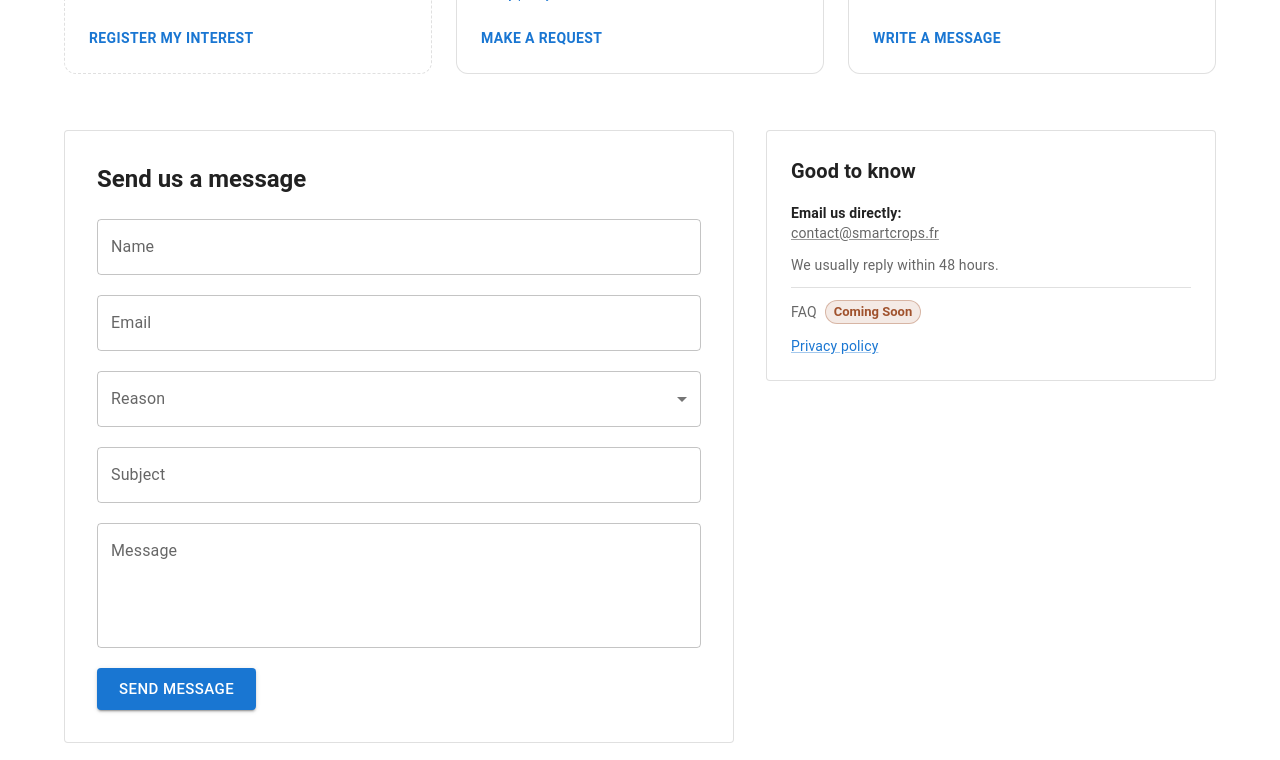
Contact (SMA-36) › shows inline validation errors and does not reach success on invalid submit
(page scrolled)
Click the button "Send message" at x=177, y=689, box 97,668 -> 256,710
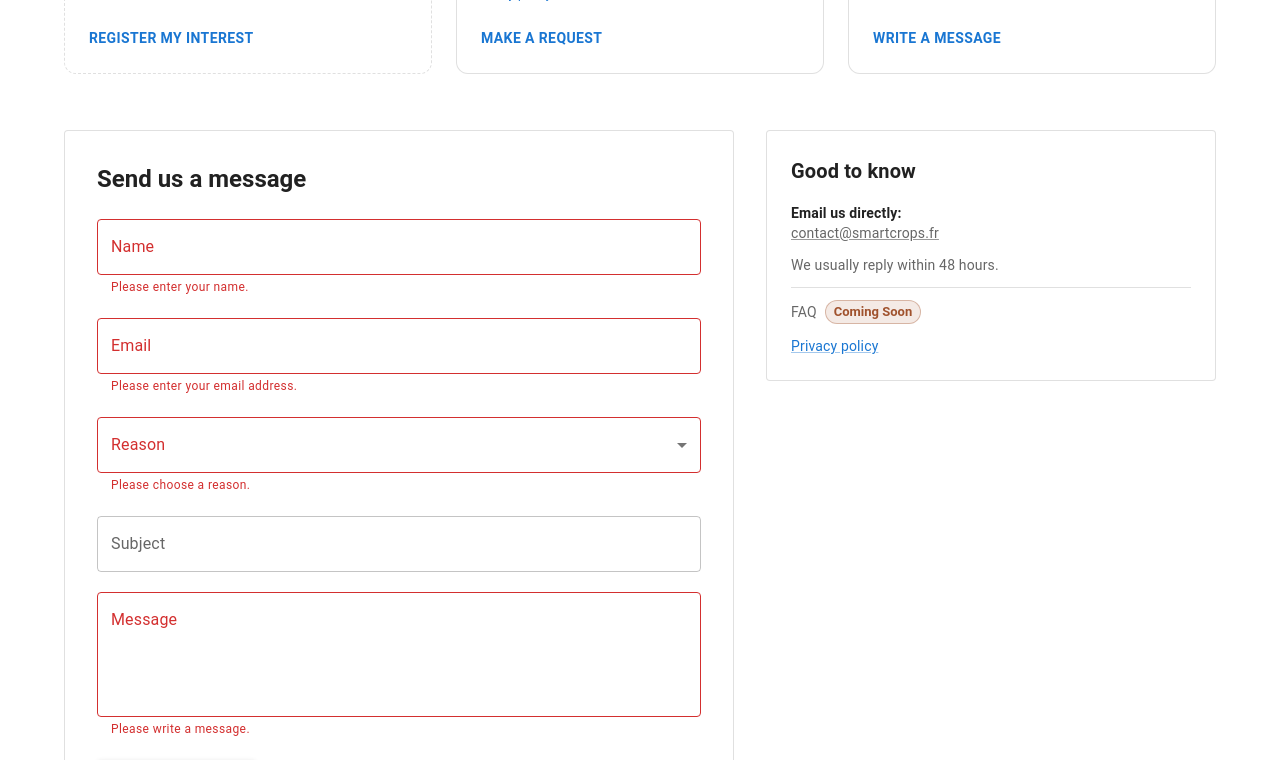
Expected: the text "Please enter your name." is shown, 111,280 -> 249,294
Expected: the text "Please enter your email address." is shown, 111,379 -> 297,393
Expected: the text "Please choose a reason." is shown, 111,478 -> 250,492
